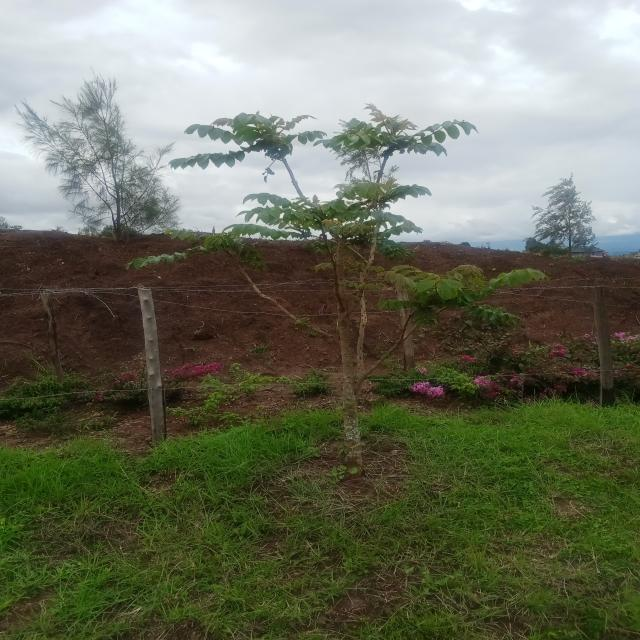Polyscias Kikuyensis: (127, 99, 553, 491)
